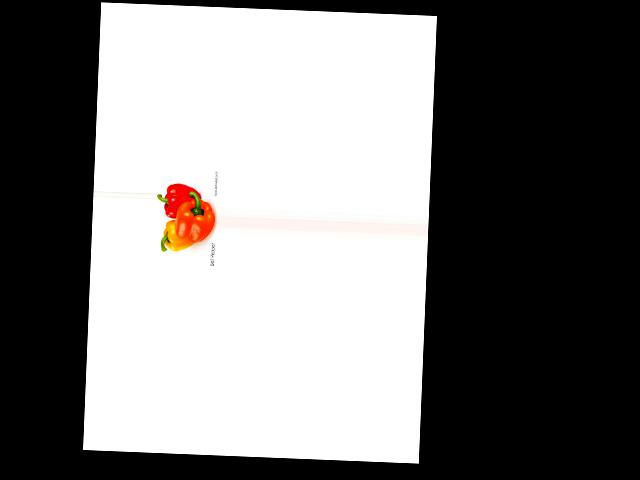bell_pepper: (158, 217, 196, 254)
